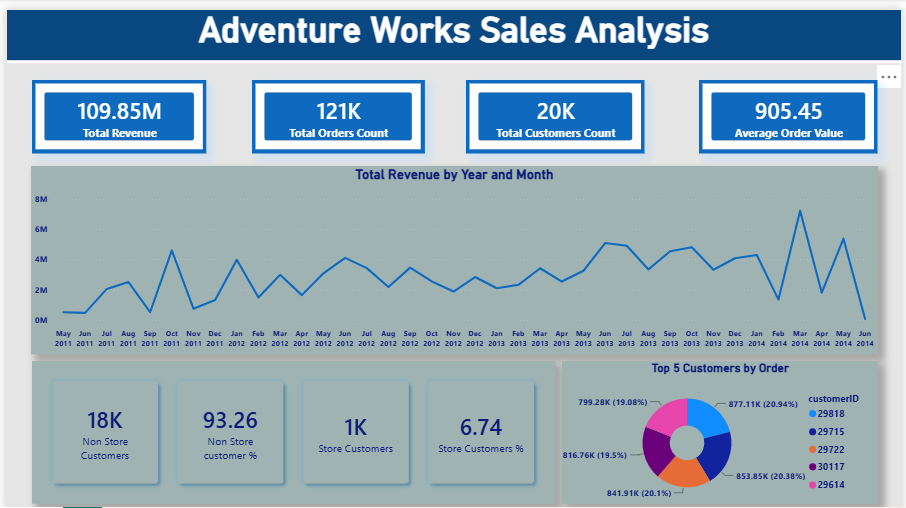

Layout of this report page (visuals, bound fields, positions):
{"tool":"powerbi","page":{"name":"Overview","canvas":[1280,720],"ordinal":0},"visuals":[{"type":"textbox","title":"Adventure Works Sales Analysis","box":[0,0,1280,78],"z":0},{"type":"cardVisual","fields":{"Data":["Measures_1.Total Revenue"]},"box":[36.9,102,249.4,104.9],"z":1000},{"type":"cardVisual","fields":{"Data":["Measures_1.Total Orders Count"]},"box":[351.5,102,246.6,104.9],"z":2000},{"type":"cardVisual","fields":{"Data":["Measures_1.Total Customers Count"]},"box":[657.6,102,255.1,104.9],"z":3000},{"type":"cardVisual","fields":{"Data":["Measures_1.Average Order Value"]},"box":[989.3,102,255.1,104.9],"z":4000},{"type":"lineChart","title":"Total Revenue by Year and Month","fields":{"Y":["Measures_1.Total Revenue"],"Category":["DimDate.YearMonth"]},"box":[35,223.8,1210,268.8],"z":5000},{"type":"cardVisual","fields":{"Data":["Sum(vw_customer_store_linkage.Non_store_cmr)","Sum(vw_customer_store_linkage.Non_store_cmr_Percent)","Sum(vw_customer_store_linkage.Store_linked_cmr)","Sum(vw_customer_store_linkage.Store_linked_cmr_Percent)"]},"box":[36.9,503.2,748.4,204.1],"z":6000},{"type":"donutChart","title":"Top 5 Customers by Order","fields":{"Category":["vw_customers_orders_revenue.customerID"],"Y":["Sum(vw_customers_orders_revenue.order_value)"]},"box":[793.8,503.2,452.2,204.1],"z":7000}]}

Visuals, with their boxes in screenshot pixels (x1, y1, x2, y2), scaled from the page's 1280x720 canvas onto the 906x508 screenshot:
"Adventure Works Sales Analysis" textbox: rect(0, 0, 905, 55)
cardVisual - Measures_1.Total Revenue: rect(26, 72, 203, 146)
cardVisual - Measures_1.Total Orders Count: rect(249, 72, 423, 146)
cardVisual - Measures_1.Total Customers Count: rect(465, 72, 646, 146)
cardVisual - Measures_1.Average Order Value: rect(700, 72, 881, 146)
"Total Revenue by Year and Month" lineChart: rect(25, 158, 881, 348)
cardVisual - Sum(vw_customer_store_linkage.Non_store_cmr) x Sum(vw_customer_store_linkage.Non_store_cmr_Percent): rect(26, 355, 556, 499)
"Top 5 Customers by Order" donutChart: rect(562, 355, 882, 499)
